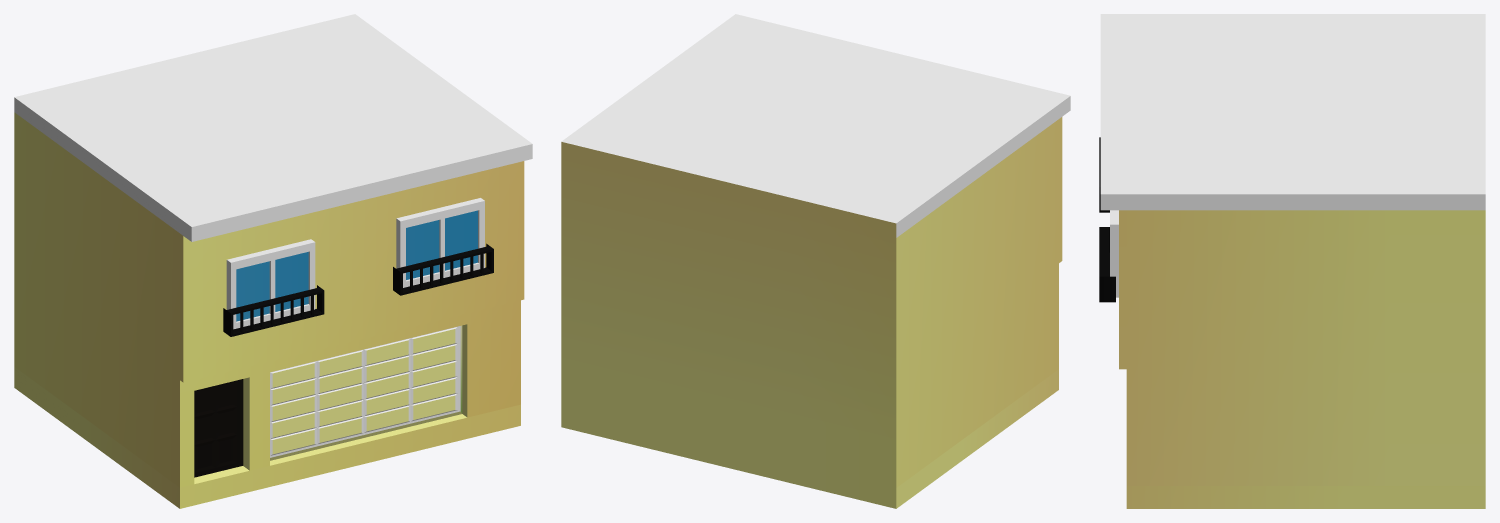
File: house2.glb
The picture shows the model from 3 angles, left to right: view 1: azimuth 30°, elevation 25°; view 2: azimuth 150°, elevation 25°; view 3: azimuth 270°, elevation 25°; orthographic projection. The views are drawn at different scales.
Visible parts, largest first — view 1: Walls, Window, Window.001, WindowRail, WindowRail.001; view 2: Walls; view 3: Walls, WindowRail.001, Window.001.
Part boxes in pixels (<box>): Walls: <box>14,14,532,508</box>; Window: <box>226,239,315,329</box>; Window.001: <box>396,198,484,287</box>; WindowRail: <box>223,285,324,336</box>; WindowRail.001: <box>393,243,493,295</box>; Walls: <box>561,14,1070,508</box>; Walls: <box>1100,14,1485,508</box>; WindowRail.001: <box>1099,227,1115,302</box>; Window.001: <box>1110,210,1118,297</box>.
Size of the model in its own units: 8.92 by 7.26 by 8.07.
Materials: 1 (1 with a texture image).
